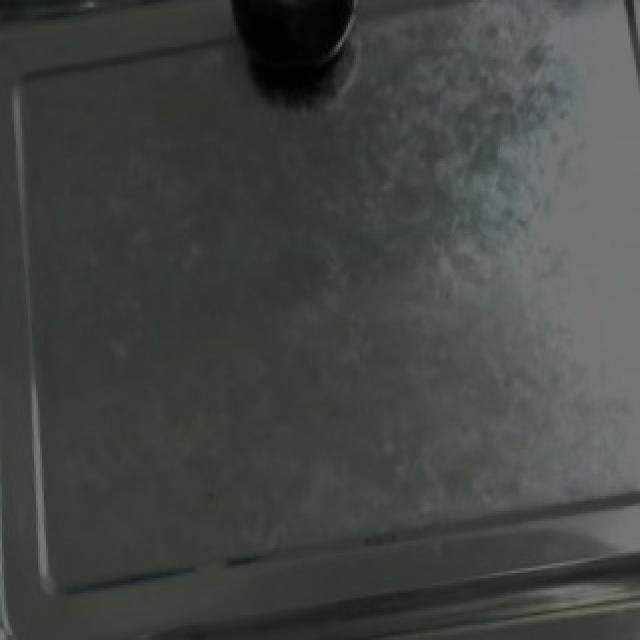Fruit: (222, 0, 364, 97)
